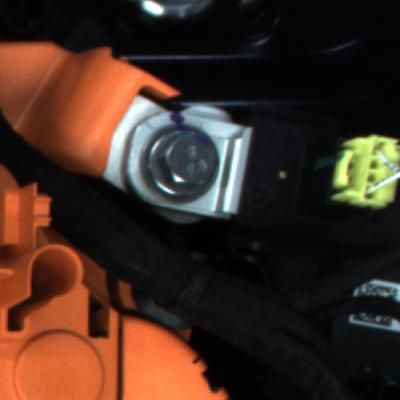nut_b: (139, 125, 224, 203)
